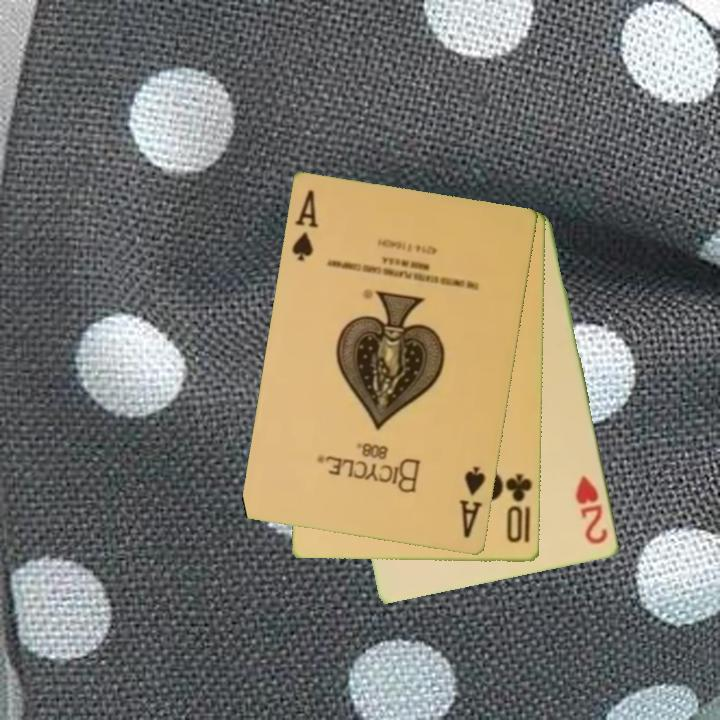10c: (502, 470, 536, 546)
2h: (572, 472, 611, 548)
As: (456, 463, 489, 541), (289, 186, 322, 264)
